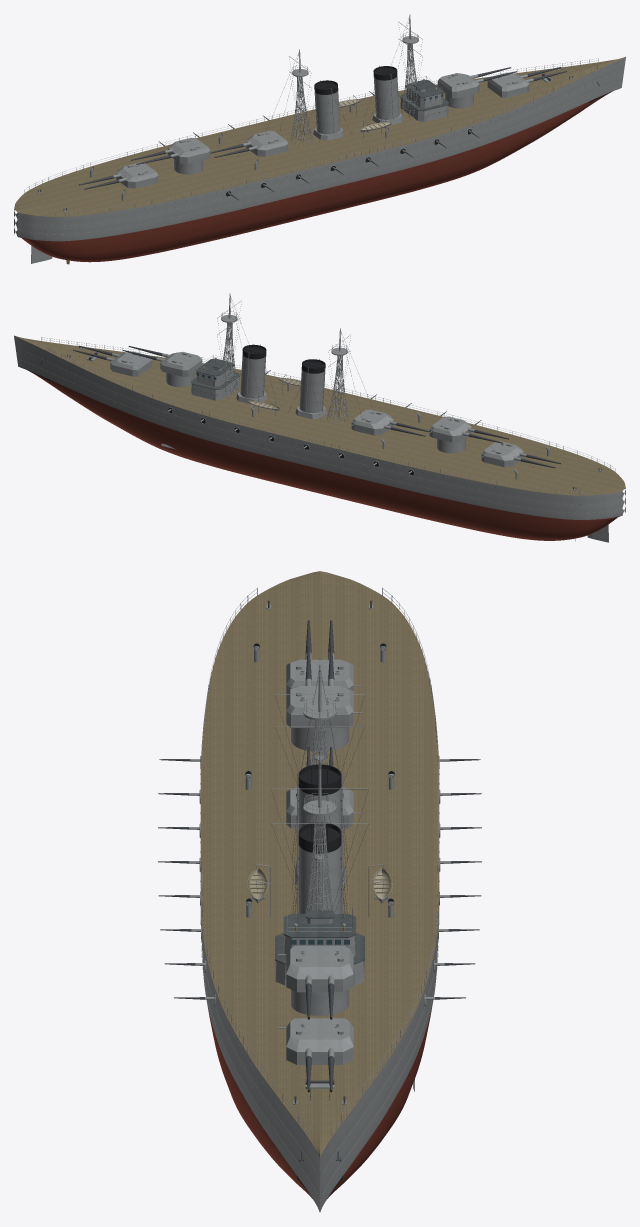
File: florida.glb
The picture shows the model from 3 angles, top to bottom: view 1: azimuth 30°, elevation 25°; view 2: azimuth 150°, elevation 25°; view 3: azimuth 270°, elevation 25°; orthographic projection. The views are drawn at different scales.
Parts seen in each view (by area): view 1: Florida class; view 2: Florida class; view 3: Florida class.
Part boxes in pixels (bbox=[...]): Florida class: bbox=[14, 14, 625, 264]; Florida class: bbox=[14, 293, 625, 542]; Florida class: bbox=[158, 571, 481, 1212].
Bounding box in the file's own units: 159 × 39.73 × 36.55.
9 materials, 8 textured.
